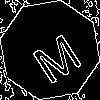M: (25, 25, 85, 86)
